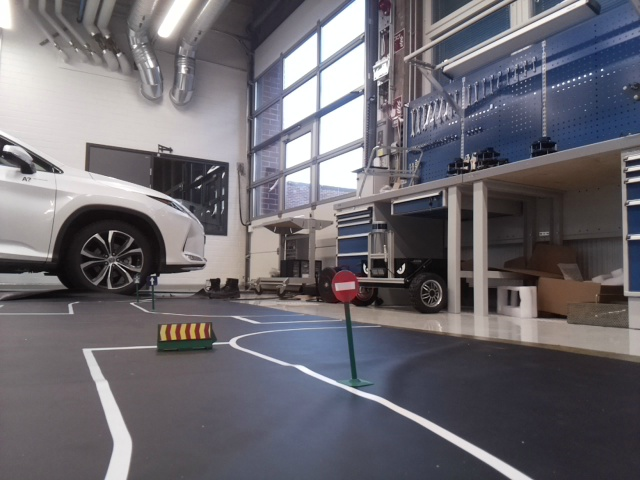ClosedRoadStand: (154, 322, 214, 340)
NoEntry: (330, 270, 359, 300)
